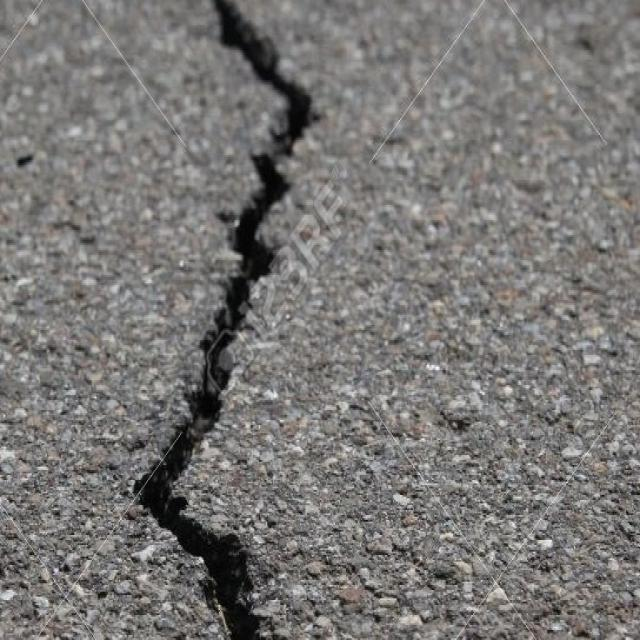Longitudinal: (127, 1, 340, 640)
